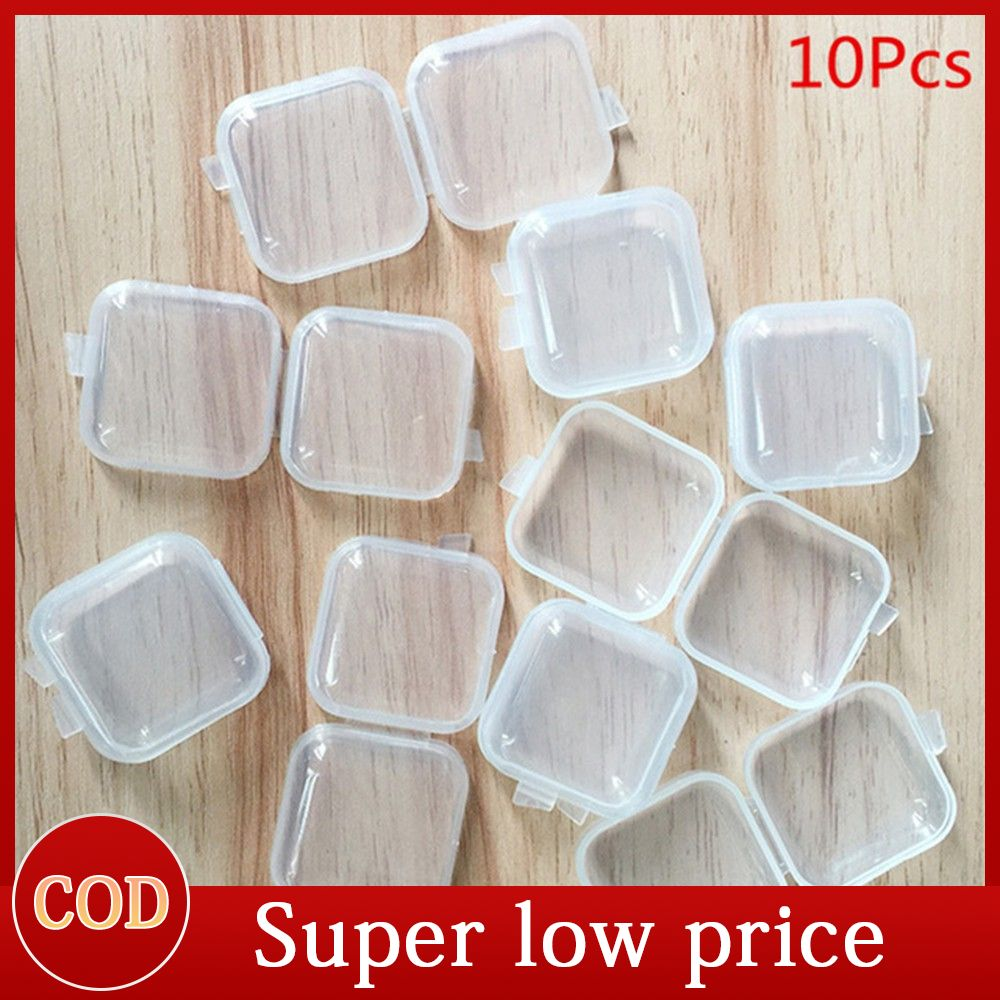PlasticBox: (16, 521, 279, 773)
